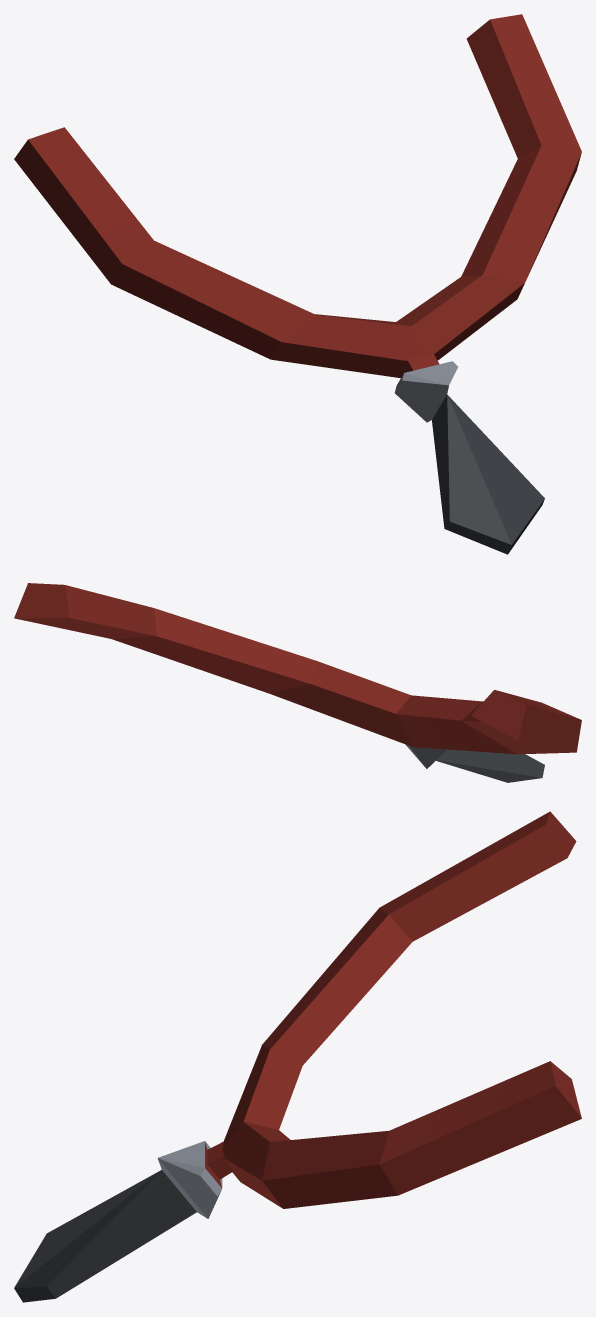
File: Prop.Necklace_01.fbx
3 renders of one model, top to bottom at view 1: azimuth 30°, elevation 25°; view 2: azimuth 150°, elevation 25°; view 3: azimuth 270°, elevation 25°, orthographic. The views are drawn at different scales.
Visible parts, largest first — view 1: Prop_Necklace_01; view 2: Prop_Necklace_01; view 3: Prop_Necklace_01.
Boxes of the visible parts, x1,y1,x2,y2 form: Prop_Necklace_01: [14, 14, 581, 554]; Prop_Necklace_01: [14, 583, 581, 782]; Prop_Necklace_01: [14, 811, 581, 1302].
Bounding box in the file's own units: 17.17 × 10.3 × 14.71.
